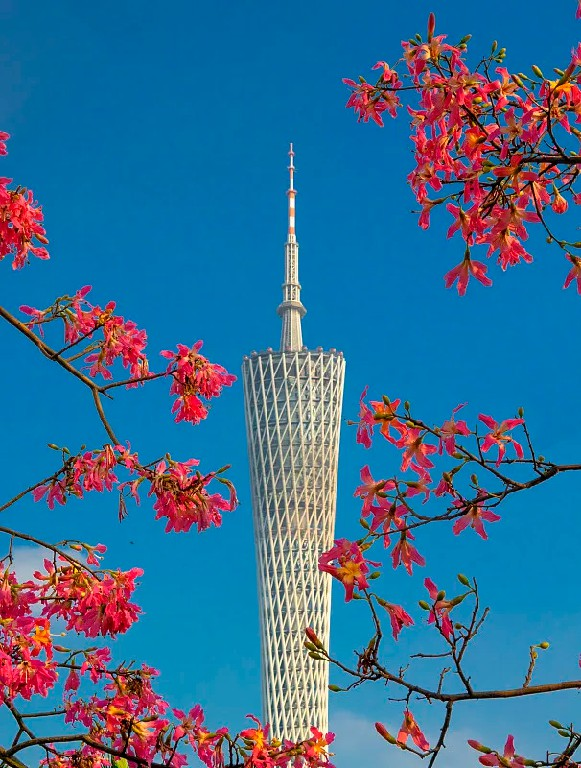Canton: (240, 142, 349, 768)
